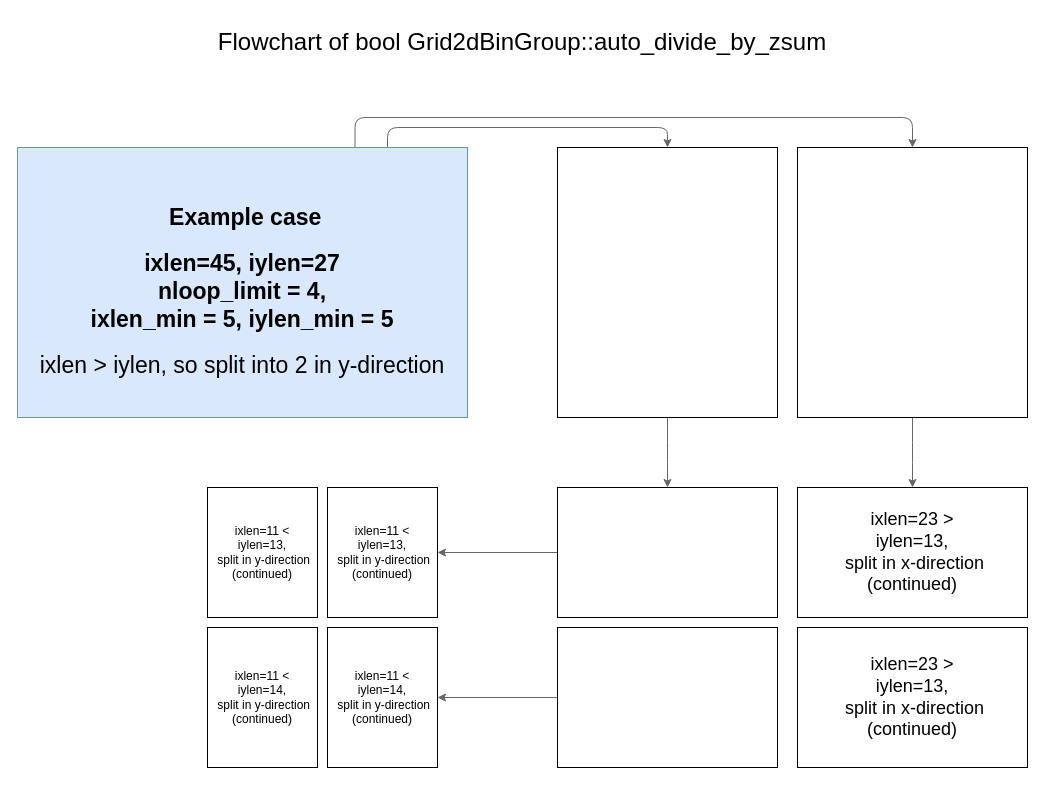
Image size: 1045x785. Some labels were removed from this diagram. The centre of each missing label's shape, as x and y in pixels:
"ixlen=22 < iylen=27, so split into 2 in y-direction" belongs at point (667, 282).
"ixlen=22 > iylen=13, so split into 2 in x-direction" belongs at point (667, 552).
"ixlen=22 > iylen=14, so split into 2 in x-direction" belongs at point (667, 697).
"ixlen=23 < iylen=27, so split into 2 in y-direction" belongs at point (912, 282).
